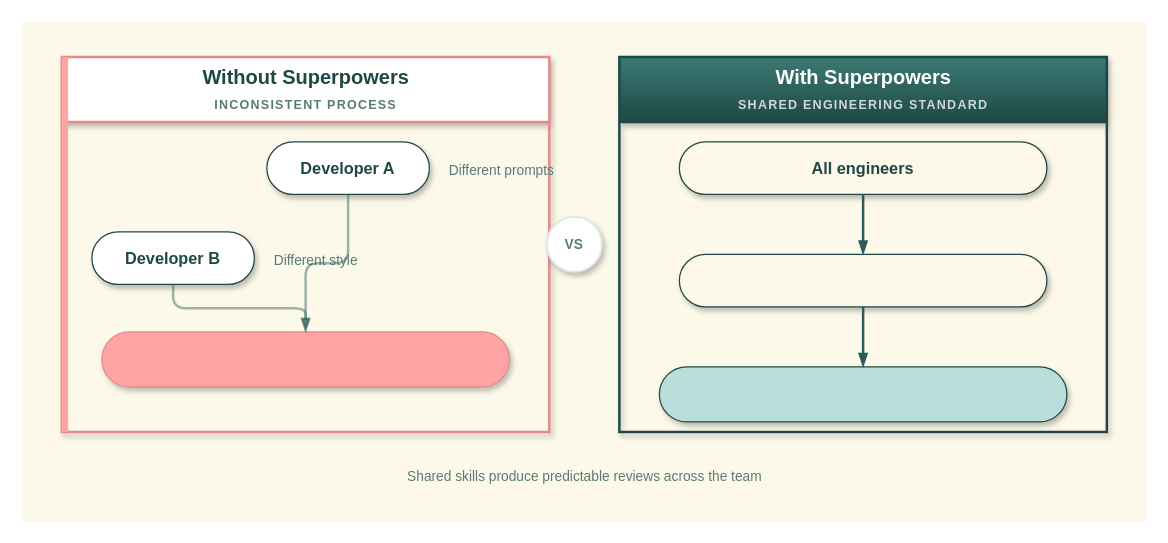
Some shapes in this 1168 by 543 pixel diagram are drawn without their labels. The centre of each missing label's shape, as x and y in pixels:
"Inconsistent code quality" belongs at (x=306, y=361).
"Predictable code reviews" belongs at (x=863, y=396).
"Same skills · Same workflow" belongs at (x=863, y=282).
